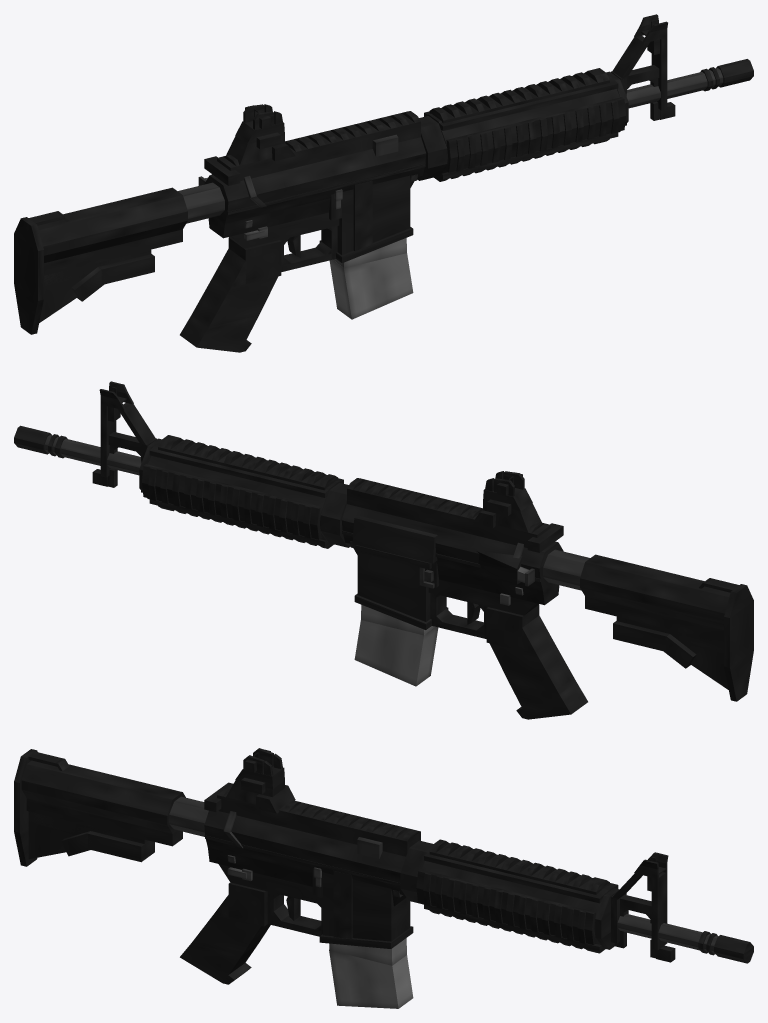
3 renders of one model, top to bottom at view 1: azimuth 30°, elevation 25°; view 2: azimuth 150°, elevation 25°; view 3: azimuth 330°, elevation 25°, orthographic.
Visible parts, largest first — view 1: gunModel71, ammoModel1, gunModel0, gunModel18, gunModel5, gunModel8, gunModel91, gunModel1, gunModel84, gunModel10, gunModel74, gunModel3 (+30 smaller); view 2: gunModel71, ammoModel1, gunModel18, gunModel5, gunModel0, gunModel8, gunModel27, gunModel93, gunModel84, gunModel10, gunModel74, gunModel3 (+31 smaller); view 3: gunModel71, ammoModel1, gunModel5, gunModel18, gunModel0, gunModel91, gunModel1, gunModel74, gunModel8, gunModel84, gunModel76, gunModel3 (+31 smaller).
Part boxes in pixels (<box>): gunModel71: <box>37,187,187,246</box>; ammoModel1: <box>329,253,413,319</box>; gunModel0: <box>204,137,425,201</box>; gunModel18: <box>217,113,420,180</box>; gunModel5: <box>337,175,410,254</box>; gunModel8: <box>191,275,278,327</box>; gunModel91: <box>446,97,625,158</box>; gunModel1: <box>204,153,426,212</box>; gunModel84: <box>427,89,619,145</box>; gunModel10: <box>180,315,258,352</box>; gunModel74: <box>44,229,182,275</box>; gunModel3: <box>208,179,414,238</box>; gunModel71: <box>580,554,730,613</box>; ammoModel1: <box>354,620,438,686</box>; gunModel18: <box>347,480,550,547</box>; gunModel5: <box>357,552,430,621</box>; gunModel0: <box>342,504,563,568</box>; gunModel8: <box>489,642,576,694</box>; gunModel27: <box>352,515,437,563</box>; gunModel93: <box>142,464,321,525</box>; gunModel84: <box>148,455,340,512</box>; gunModel10: <box>509,682,587,719</box>; gunModel74: <box>585,596,723,642</box>; gunModel3: <box>353,548,559,605</box>; gunModel71: <box>22,760,185,815</box>; ammoModel1: <box>329,950,413,1008</box>; gunModel5: <box>323,872,410,941</box>; gunModel18: <box>217,785,420,856</box>; gunModel0: <box>204,810,405,872</box>; gunModel91: <box>416,869,595,930</box>; gunModel1: <box>204,825,400,882</box>; gunModel74: <box>26,798,182,846</box>; gunModel8: <box>192,914,270,955</box>; gunModel84: <box>422,850,601,917</box>; gunModel76: <box>28,811,114,859</box>; gunModel3: <box>208,847,406,906</box>.
Size of the model in its own units: 24.3 by 7.4 by 2.25.
